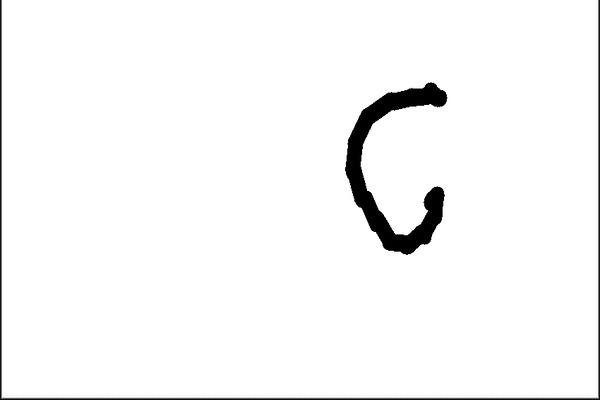C: (339, 75, 455, 255)
